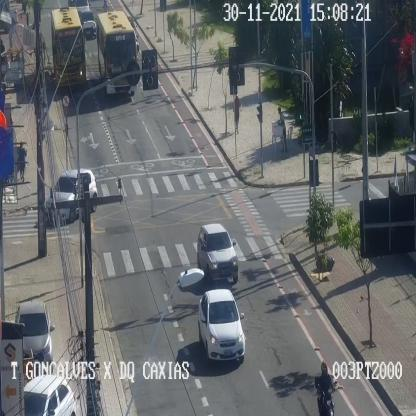bus: (96, 11, 138, 94), (51, 8, 85, 87)
car: (198, 289, 245, 362), (45, 169, 98, 222), (16, 301, 52, 372), (197, 223, 238, 283), (23, 374, 76, 416), (78, 9, 96, 37)
motorbike: (314, 360, 337, 415)
person: (278, 107, 288, 152), (232, 92, 242, 132), (17, 141, 26, 181)
